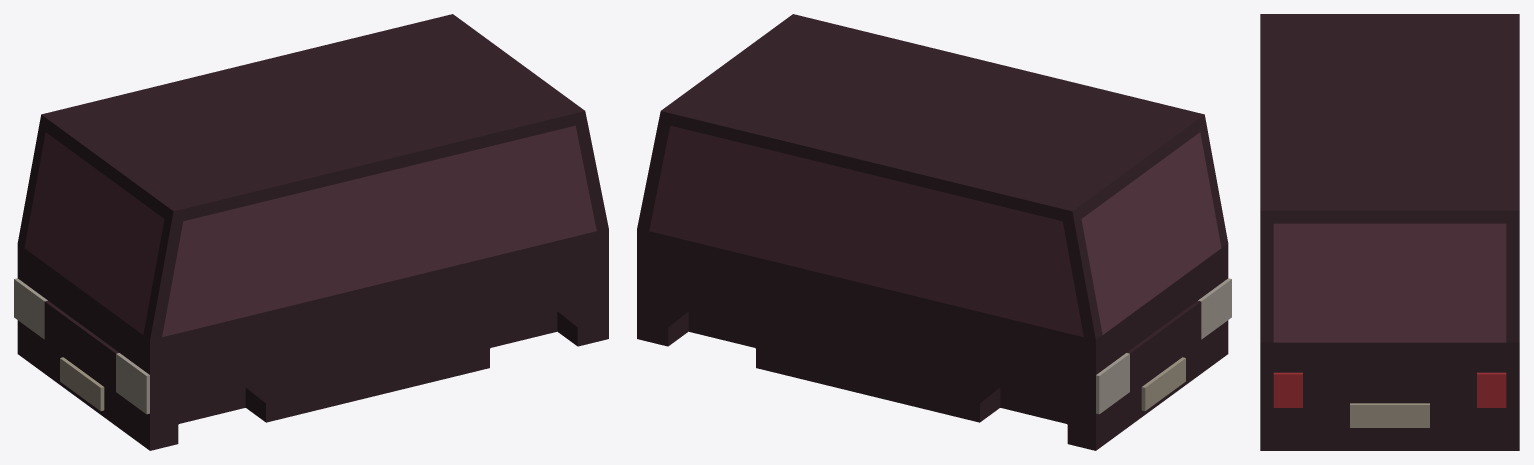
File: MiniVan_Black.fbx
The picture shows the model from 3 angles, left to right: view 1: azimuth 30°, elevation 25°; view 2: azimuth 150°, elevation 25°; view 3: azimuth 270°, elevation 25°; orthographic projection. The views are drawn at different scales.
Parts seen in each view (by area): view 1: MiniVan_Black, MiniVan_Lights; view 2: MiniVan_Black, MiniVan_Lights; view 3: MiniVan_Black, MiniVan_Lights.
Part boxes in pixels (x1,y1,x2,y2): MiniVan_Black: (17, 14, 608, 450); MiniVan_Lights: (14, 278, 149, 414); MiniVan_Black: (637, 14, 1228, 450); MiniVan_Lights: (1096, 278, 1231, 414); MiniVan_Black: (1260, 14, 1519, 450); MiniVan_Lights: (1273, 372, 1506, 407).
Size of the model in its own units: 3.96 by 1.9 by 1.95.
